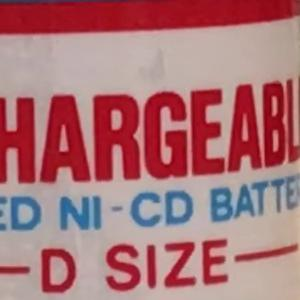keyword: (43, 181, 203, 265)
